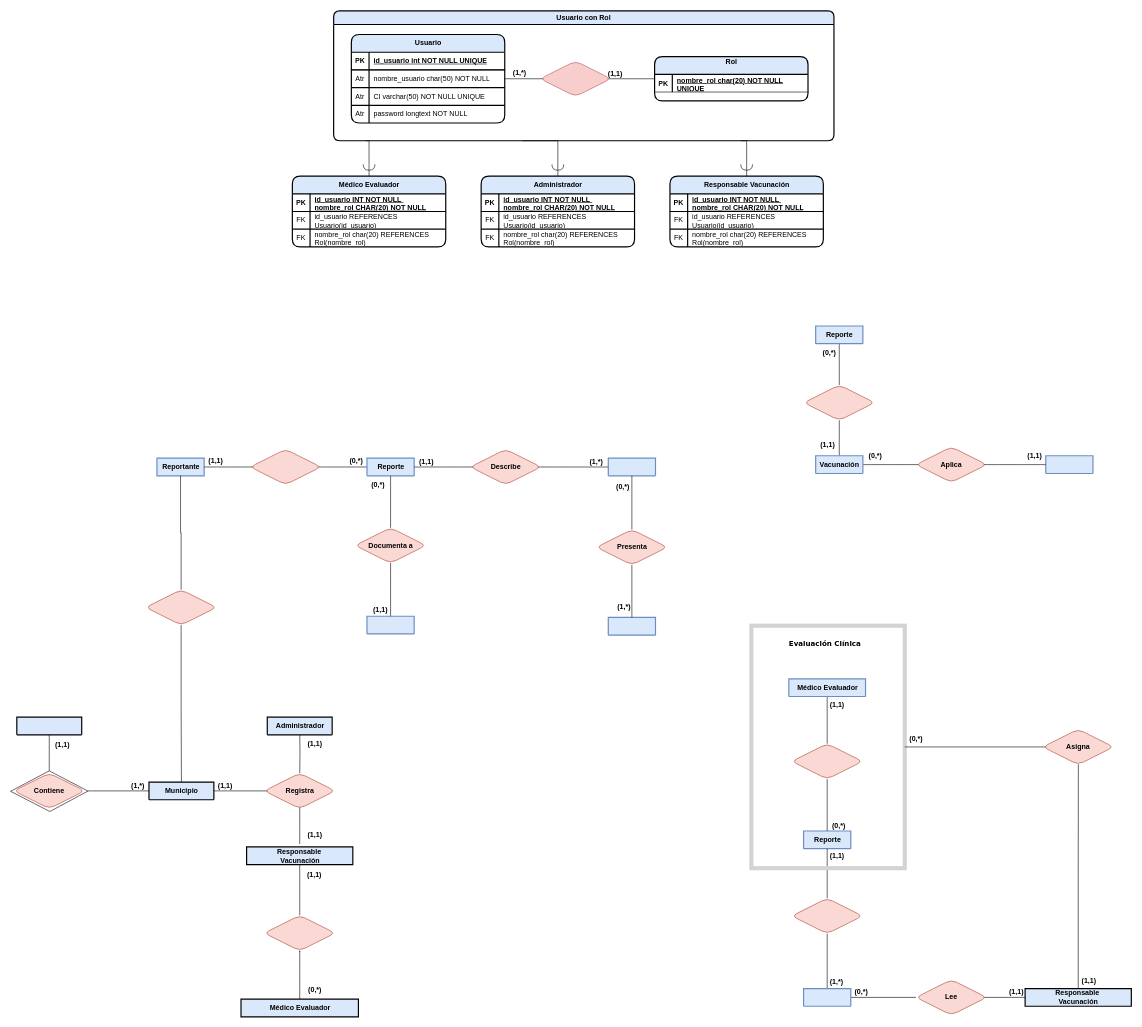
Image size: 1142x1027. Some labels were removed from this diagram. The shapes that lost their labels are listed below. From the top down, each one's centre as x and y in pixels, then its label:
At point (575, 78): "Tener".
At point (839, 402): "Asocia".
At point (285, 467): "Envía".
At point (631, 466): "Evento Adverso".
At point (1069, 464): "Vacuna".
At point (181, 607): "Pertenece".
At point (390, 624): "Sujeto Vacunado".
At point (631, 626): "Síntoma".
At point (49, 725): "Provincia".
At point (827, 761): "Revisa".
At point (299, 933): "Gestiona".
At point (827, 916): "Genera".
At point (827, 997): "Alerta".
